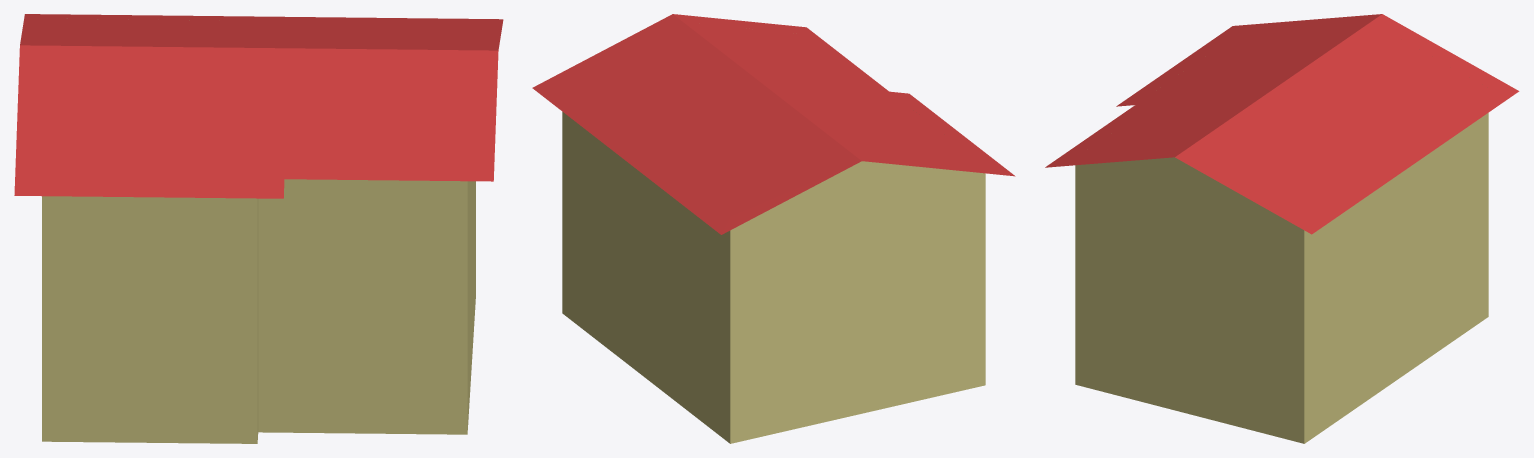
3 views of the same model, side by side, from view 1: azimuth 30°, elevation 25°; view 2: azimuth 150°, elevation 25°; view 3: azimuth 270°, elevation 25° (orthographic). The views are drawn at different scales.
Bounding box in the file's own units: 17.28 × 15.94 × 9.78.
